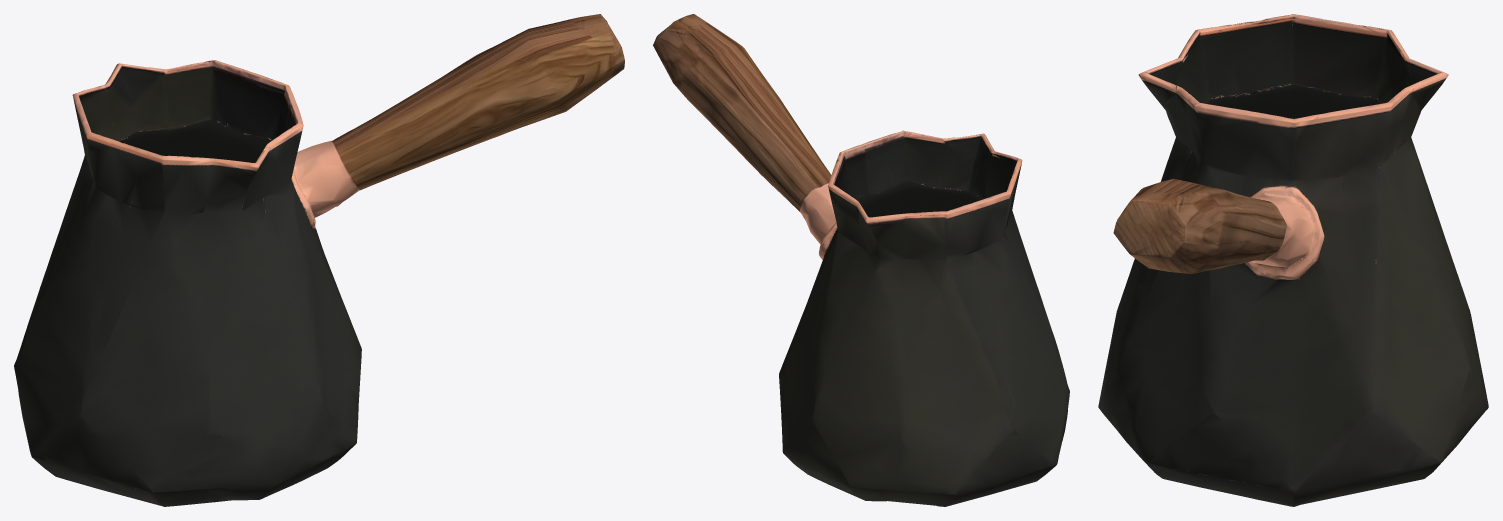
File: turkish_coffee_pot.glb
3 views of the same model, side by side, from view 1: azimuth 30°, elevation 25°; view 2: azimuth 150°, elevation 25°; view 3: azimuth 270°, elevation 25° (orthographic). The views are drawn at different scales.
Parts seen in each view (by area): view 1: Mesh1.0; view 2: Mesh1.0; view 3: Mesh1.0.
Part boxes in pixels (box(x1,y1,x2,y2)): Mesh1.0: box(14, 14, 624, 506); Mesh1.0: box(653, 14, 1069, 506); Mesh1.0: box(1098, 14, 1488, 506).
Size of the model in its own units: 1.91 by 1.33 by 1.11.
1 material, 1 textured.
